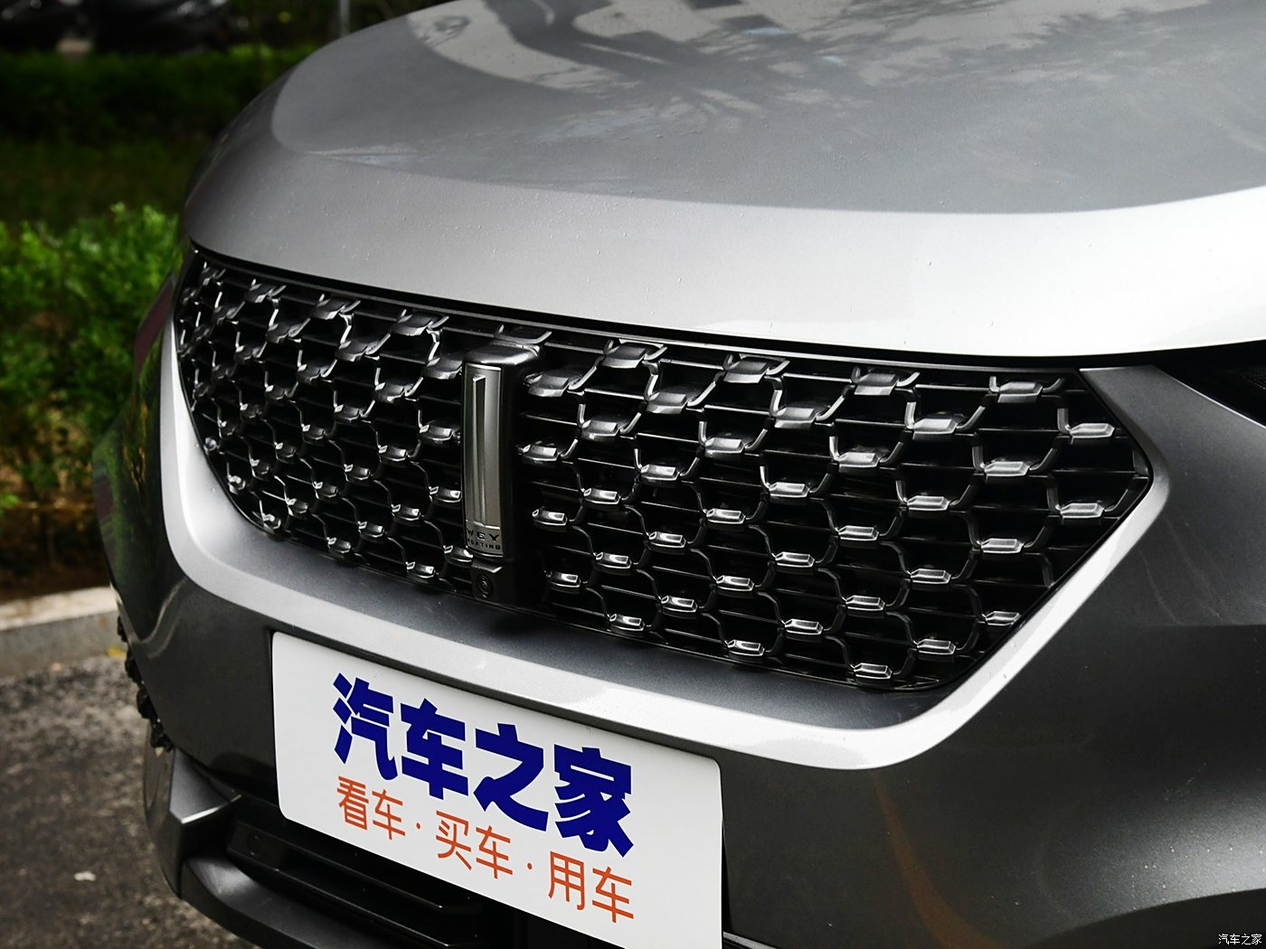WEY: (466, 366, 500, 552)
